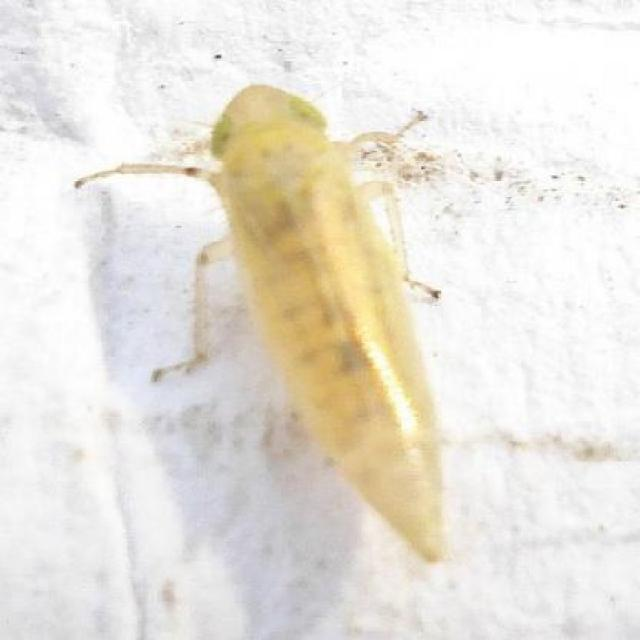green-leafhopper: (67, 82, 443, 569)
